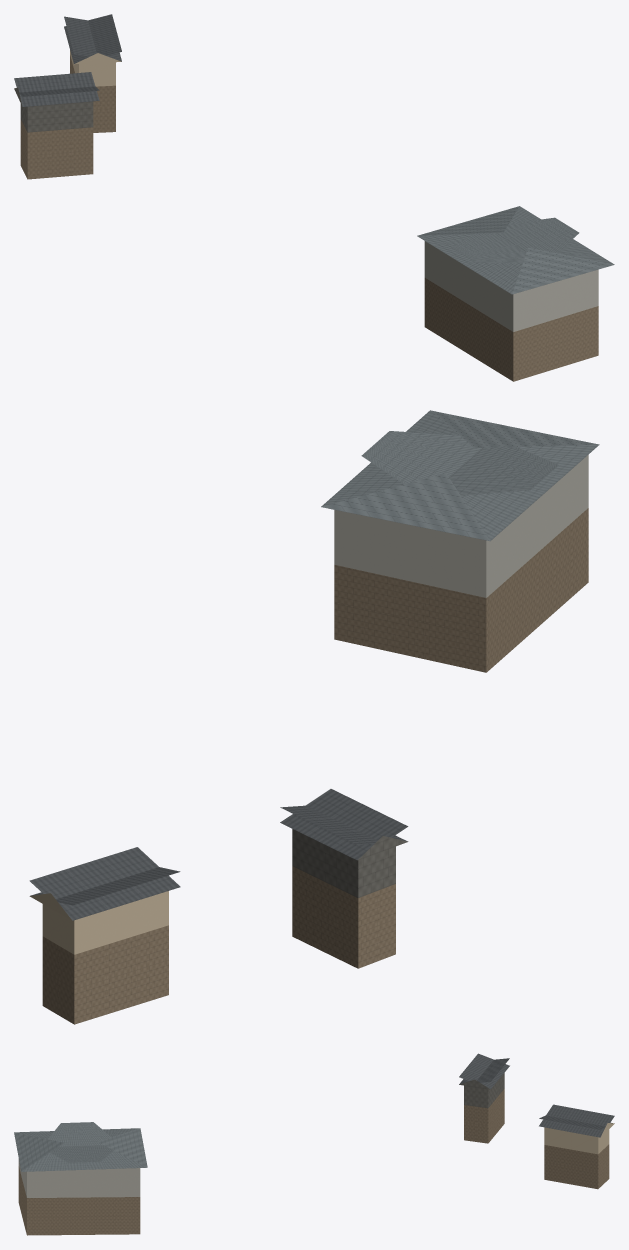
File: bld_c9_27_404.gltf
3 views of the same model, one above another, from view 1: azimuth 30°, elevation 25°; view 2: azimuth 150°, elevation 25°; view 3: azimuth 270°, elevation 25° (orthographic). The views are drawn at different scales.
Visible parts, largest first — view 1: bld_c9_27_404; view 2: bld_c9_27_404; view 3: bld_c9_27_404.
Part boxes in pixels (left/top/right/bottom): bld_c9_27_404: left=14, top=14, right=614, bottom=381; bld_c9_27_404: left=29, top=410, right=599, bottom=1024; bld_c9_27_404: left=14, top=1053, right=614, bottom=1235.
Size of the model in its own units: 29.75 by 10.5 by 71.14.
Materials: 8 (8 with a texture image).
